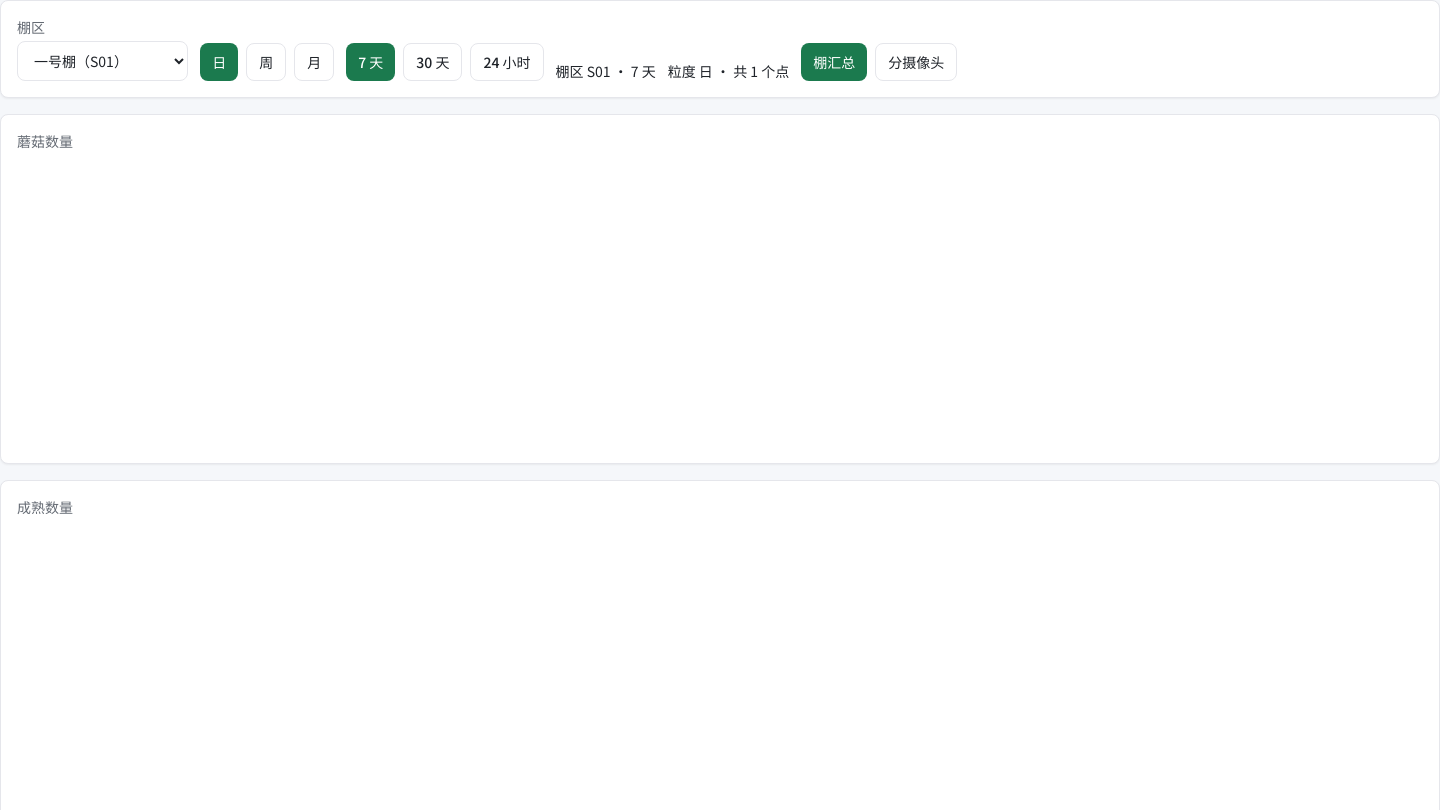
Scenario: GrowthTrendsView › requests 30 days from the window control
What coordinates should you click on to do the following:
click the button "30 天"
I would click on:
 (433, 62)
Its box is [403, 43, 462, 81].
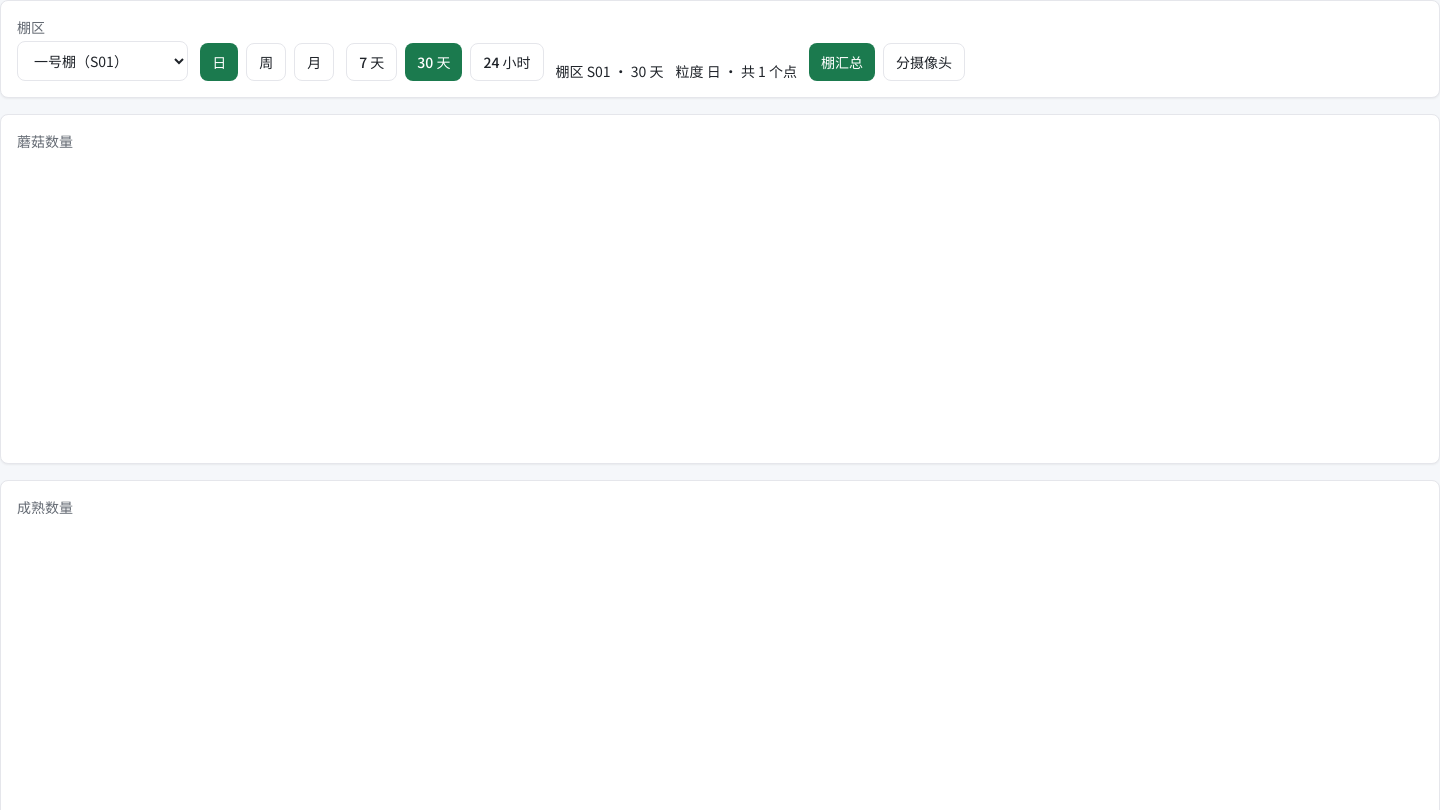
Expected: the text "棚区 S01 · 30 天" is shown, [556, 61, 664, 81]
